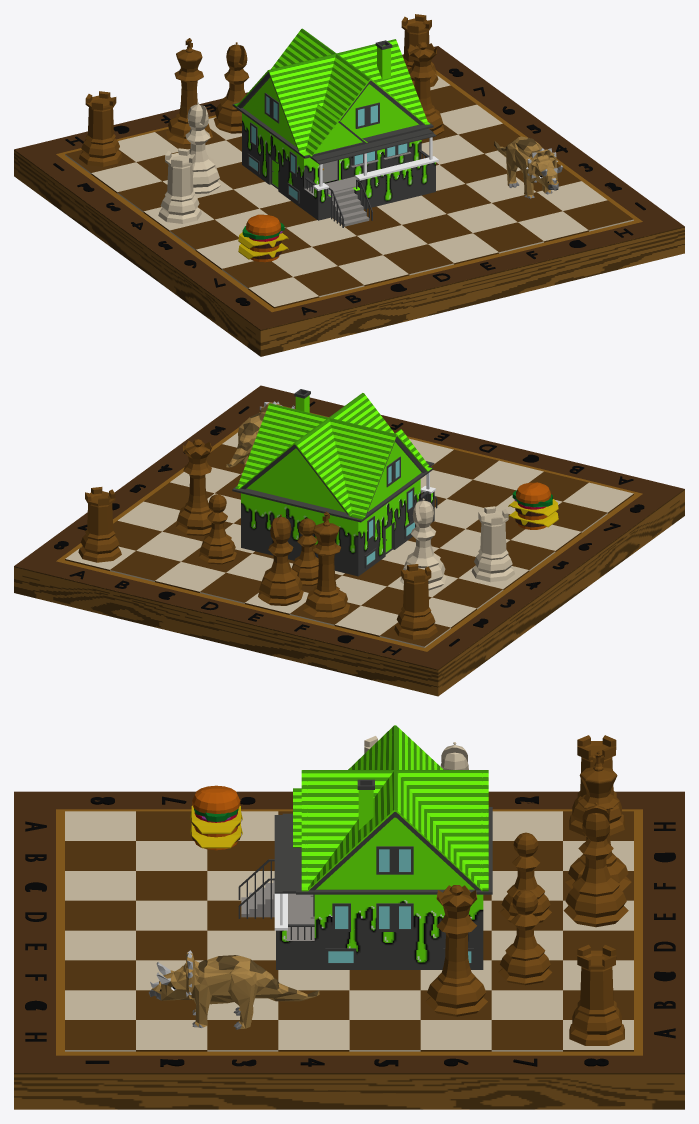
3 views of the same model, one above another, from view 1: azimuth 30°, elevation 25°; view 2: azimuth 150°, elevation 25°; view 3: azimuth 270°, elevation 25° (orthographic). The views are drawn at different scales.
Visible parts, largest first — view 1: Cube.002, Cube.754, ANIMAL_Triceratops, OBJRANDOM_HAMBURGER; view 2: Cube.002, Cube.754, OBJRANDOM_HAMBURGER, ANIMAL_Triceratops; view 3: Cube.002, Cube.754, ANIMAL_Triceratops, OBJRANDOM_HAMBURGER.
Boxes of the visible parts, x1,y1,x2,y2 form: Cube.002: (14, 14, 684, 356); Cube.754: (232, 28, 438, 227); ANIMAL_Triceratops: (494, 136, 562, 198); OBJRANDOM_HAMBURGER: (238, 214, 288, 262); Cube.002: (14, 385, 684, 696); Cube.754: (232, 389, 437, 576); OBJRANDOM_HAMBURGER: (508, 482, 558, 529); ANIMAL_Triceratops: (226, 401, 294, 467); Cube.002: (14, 735, 684, 1109); Cube.754: (238, 725, 492, 969); ANIMAL_Triceratops: (148, 950, 319, 1029); OBJRANDOM_HAMBURGER: (190, 785, 242, 850).
Bounding box in the file's own units: 3981 × 1500 × 4012.
30 materials, 3 textured.
